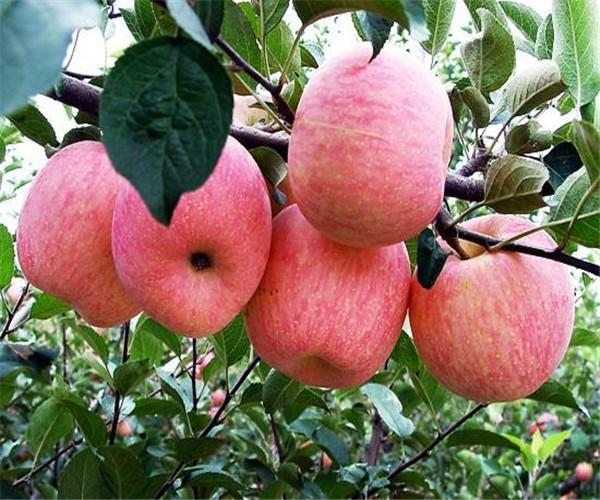apple: (68, 137, 278, 334), (282, 38, 455, 247), (404, 214, 576, 407), (242, 211, 406, 389), (15, 140, 152, 327)
